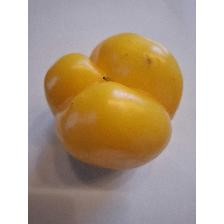Paprika: (41, 30, 186, 172)
